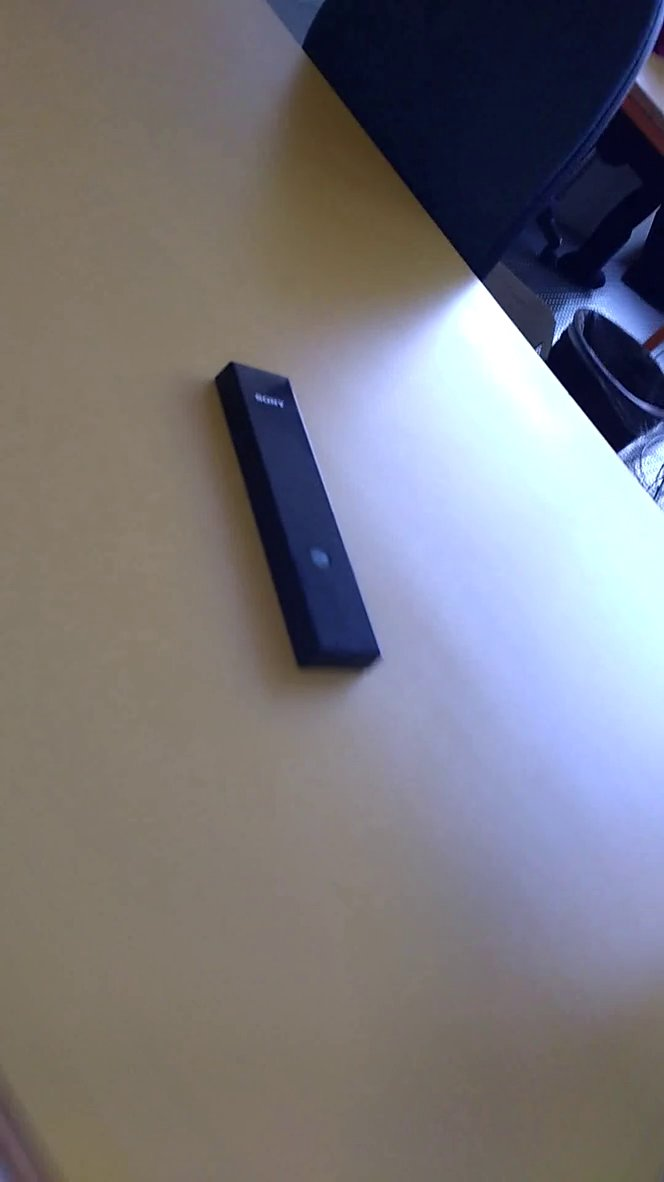bin: (526, 283, 664, 473)
remote: (196, 357, 394, 694)
